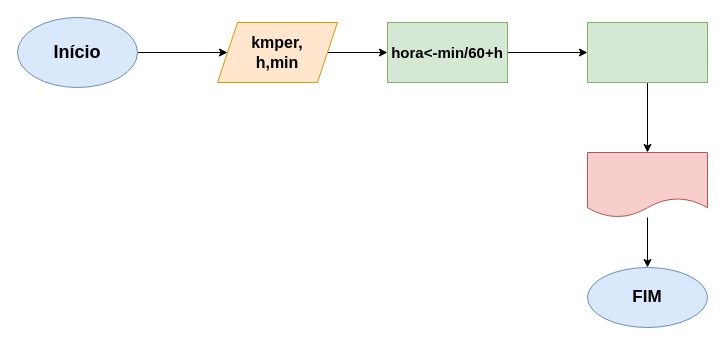
Image size: 725x345. Some labels were removed from this diagram. Here are the shapes that lost their labels. From the top down, the centre of each, then its label:
At pixel 647 52: "kmh<-kmper/hora".
At pixel 647 185: "kmh".
